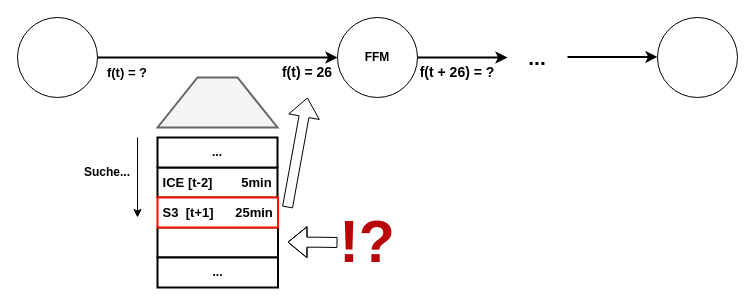
Some shapes in this 755 by 306 pixel diagram are drawn without their labels. Here are the shapes that lost their labels. From the top down, the centre of each, then its label:
pixel 57 57: DA
pixel 697 57: Rödelheim
pixel 217 242: RE [t+3] 10min
